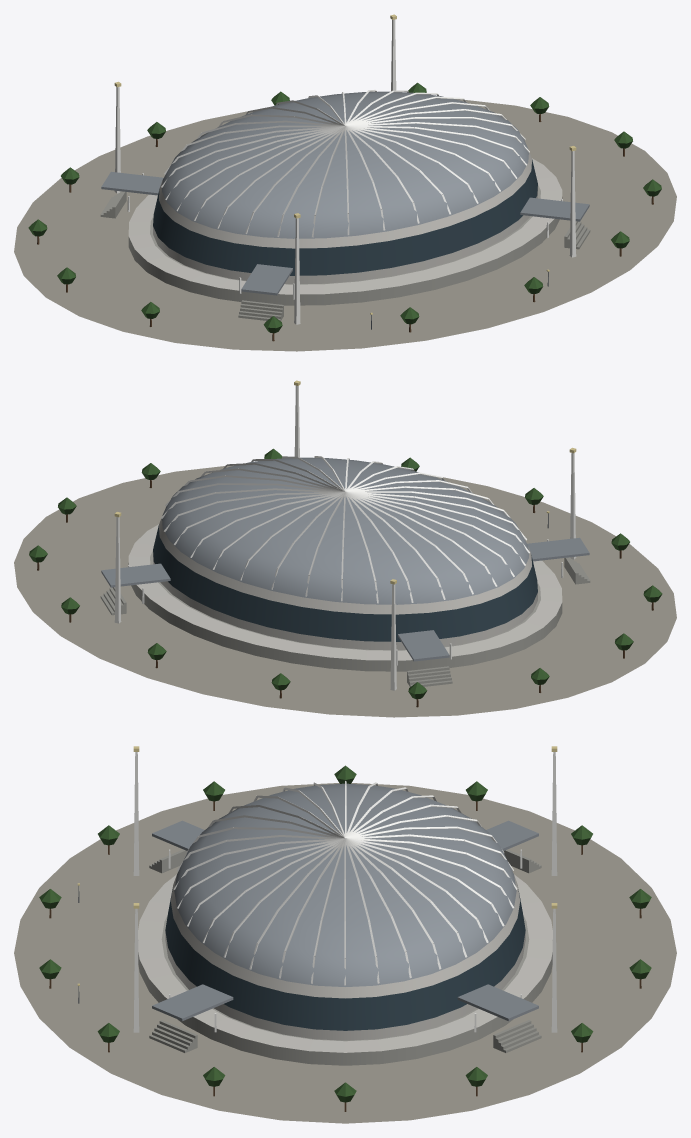
Rendered from desktop.glb.
3 views of the same model, one above another, from view 1: azimuth 30°, elevation 25°; view 2: azimuth 150°, elevation 25°; view 3: azimuth 270°, elevation 25° (orthographic). The views are drawn at different scales.
Parts seen in each view (by area): view 1: lm.mission-bay-arena; view 2: lm.mission-bay-arena; view 3: lm.mission-bay-arena.
Part boxes in pixels (left/top/right/bottom): lm.mission-bay-arena: left=14, top=14, right=676, bottom=351; lm.mission-bay-arena: left=14, top=380, right=676, bottom=717; lm.mission-bay-arena: left=14, top=746, right=676, bottom=1123.
Size of the model in its own units: 224 by 41 by 184.
